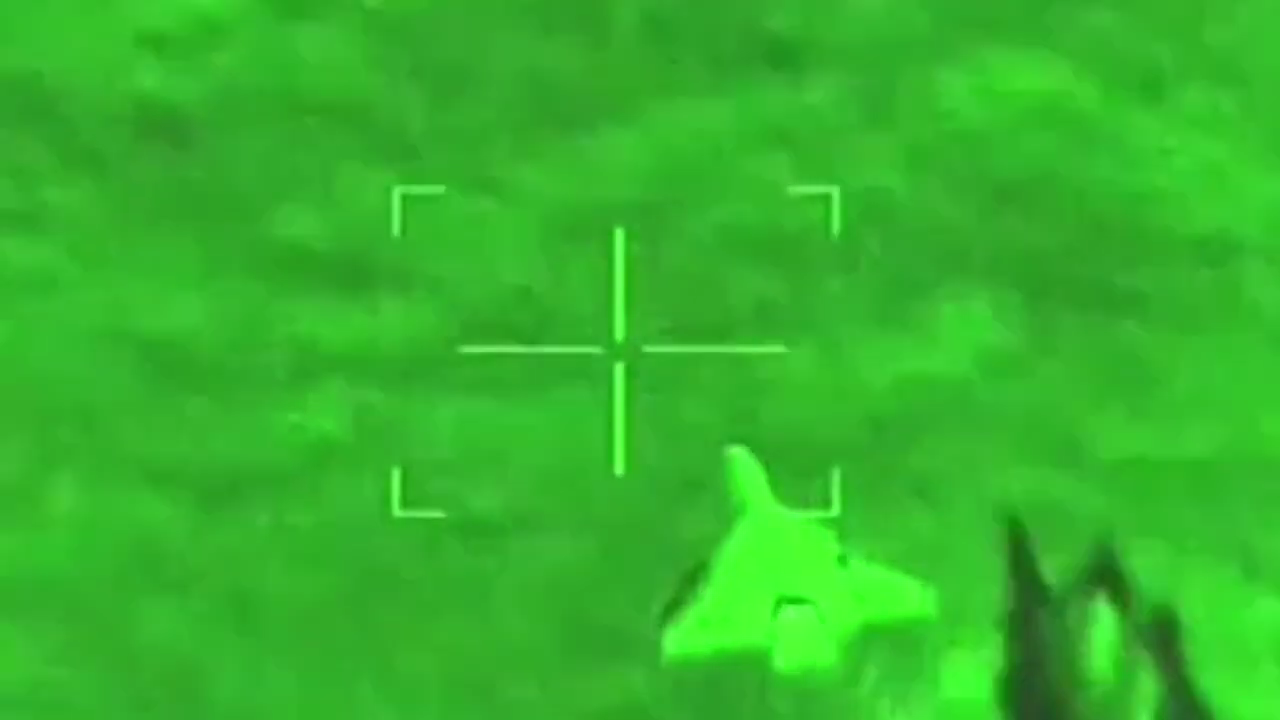shahed: (453, 221, 790, 479)
